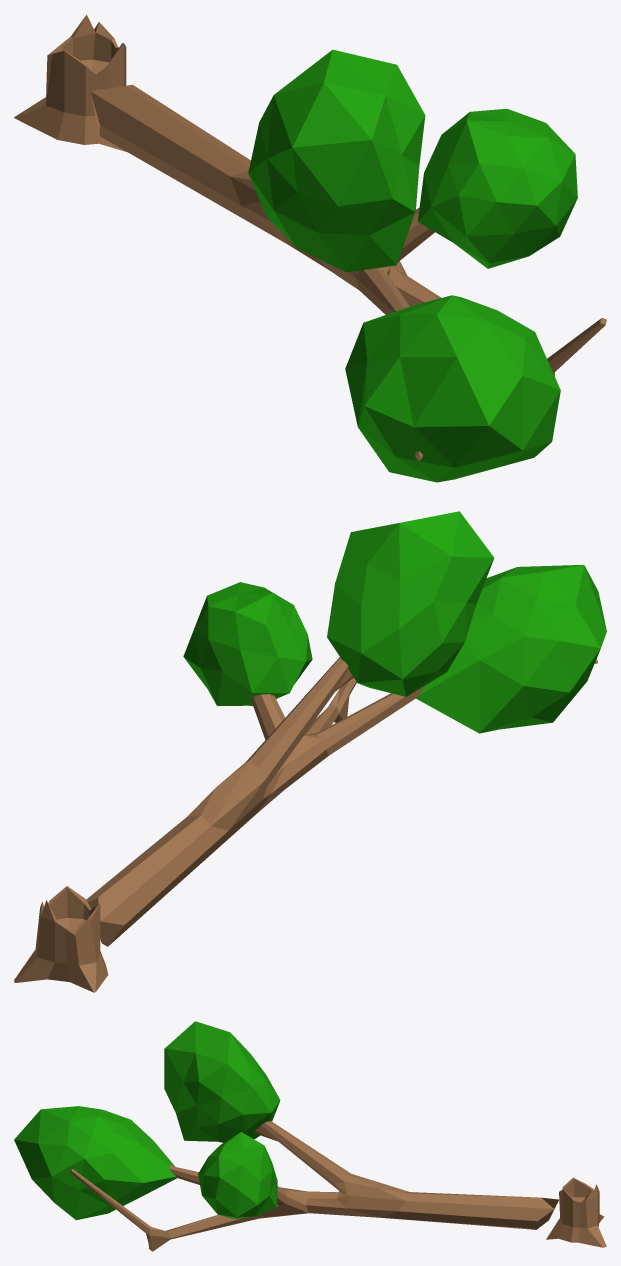
The model's file is Tree_3 Broken.fbx.
The picture shows the model from 3 angles, top to bottom: view 1: azimuth 30°, elevation 25°; view 2: azimuth 150°, elevation 25°; view 3: azimuth 270°, elevation 25°; orthographic projection. The views are drawn at different scales.
Visible parts, largest first — view 1: Tree3Broken_mesh; view 2: Tree3Broken_mesh; view 3: Tree3Broken_mesh.
Part boxes in pixels (x1=…): Tree3Broken_mesh: x1=14, y1=14, x2=606, y2=482; Tree3Broken_mesh: x1=14, y1=511, x2=606, y2=992; Tree3Broken_mesh: x1=14, y1=1021, x2=606, y2=1251.
Bounding box in the file's own units: 291 × 273 × 797.
